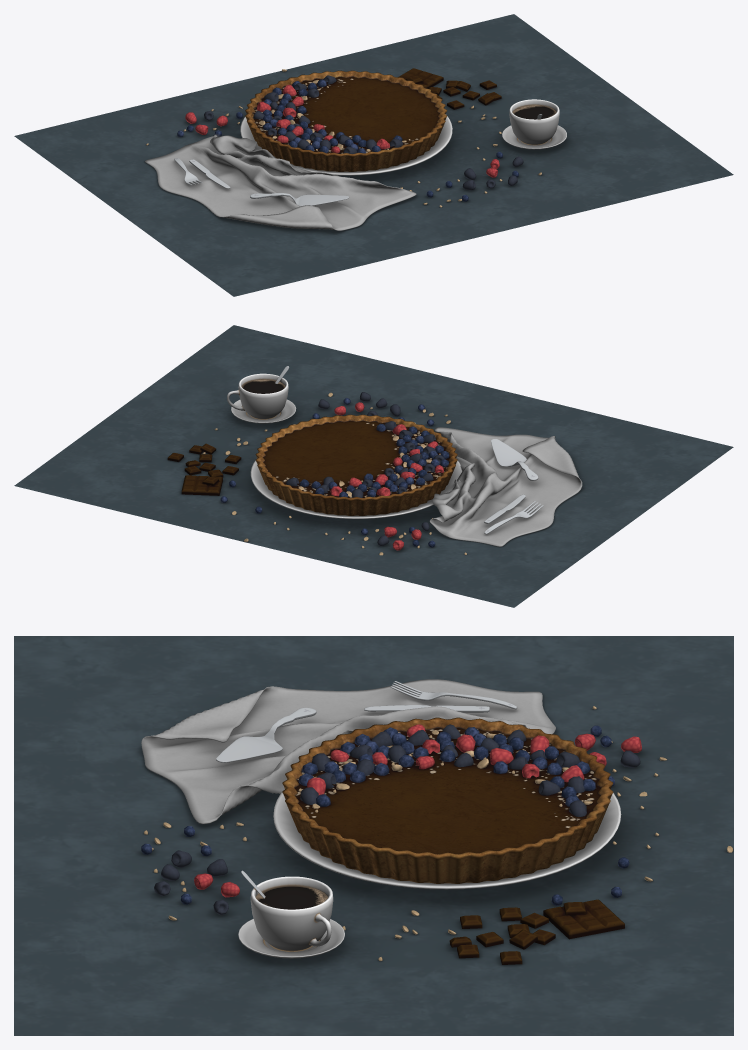
The model's file is chocolate_tart.glb.
3 views of the same model, one above another, from view 1: azimuth 30°, elevation 25°; view 2: azimuth 150°, elevation 25°; view 3: azimuth 270°, elevation 25° (orthographic). The views are drawn at different scales.
Parts seen in each view (by area): view 1: table, cloth, filling, plate, cup, blueberry, chocolate.001, raspberry, dish, blackberry_, raspberry.001, cakeServer (+1 smaller); view 2: table, cloth, filling, plate, cup, blueberry, chocolate.001, dish, raspberry, blackberry_, cakeServer, utensils (+3 smaller); view 3: table, cloth, filling, plate, cup, blueberry, chocolate.001, dish, raspberry, blackberry_, raspberry.001, cakeServer (+4 smaller).
Boxes of the visible parts, x1,y1,x2,y2 form: table: (14,14,733,296); cloth: (145,134,416,230); filling: (252,77,439,153); plate: (245,70,447,171); cup: (502,99,566,149); blueberry: (262,79,402,153); chocolate.001: (398,68,501,109); raspberry: (253,75,403,153); dish: (240,114,452,175); blackberry_: (257,84,390,153); raspberry.001: (462,156,523,190); cakeServer: (250,193,348,206); table: (14,325,733,607); cloth: (429,427,582,546); filling: (263,421,450,497); plate: (255,414,457,515); cup: (227,366,296,423); blueberry: (299,423,449,497); chocolate.001: (167,443,241,495); dish: (250,458,462,518); raspberry: (286,421,444,497); blackberry_: (330,424,443,496); cakeServer: (491,439,538,480); utensils: (484,494,543,534); table: (14,636,733,1035); cloth: (141,679,555,824); filling: (294,728,600,854); plate: (282,717,613,883); cup: (238,870,344,958); blueberry: (298,727,595,806); chocolate.001: (449,899,624,964); dish: (273,789,621,889); raspberry: (300,724,586,816); blackberry_: (307,724,584,795); raspberry.001: (154,850,239,914); cakeServer: (216,707,316,762).
Bounding box in the file's own units: 2.16 × 0.1732 × 1.65.
Materials: 1 (1 with a texture image).
